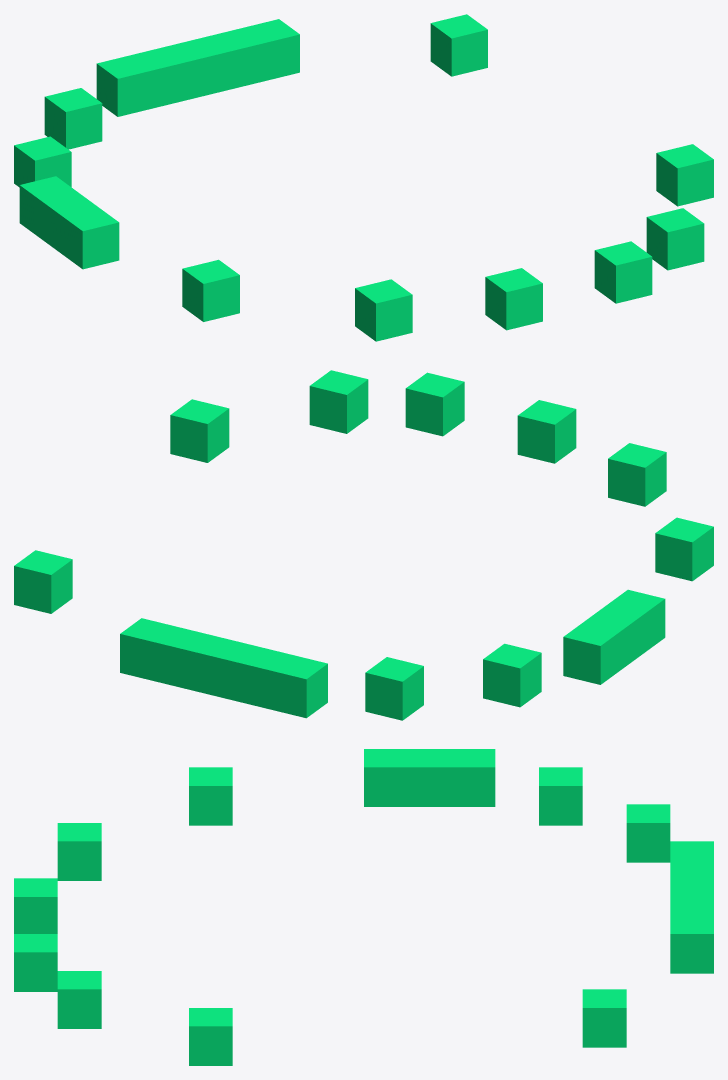
Rendered from luzsaturno-verde1.obj.
3 renders of one model, top to bottom at view 1: azimuth 30°, elevation 25°; view 2: azimuth 150°, elevation 25°; view 3: azimuth 270°, elevation 25°, orthographic. The views are drawn at different scales.
Bounding box in the file's own units: 1.5 × 0.1 × 1.6.
1 material, 1 textured.
